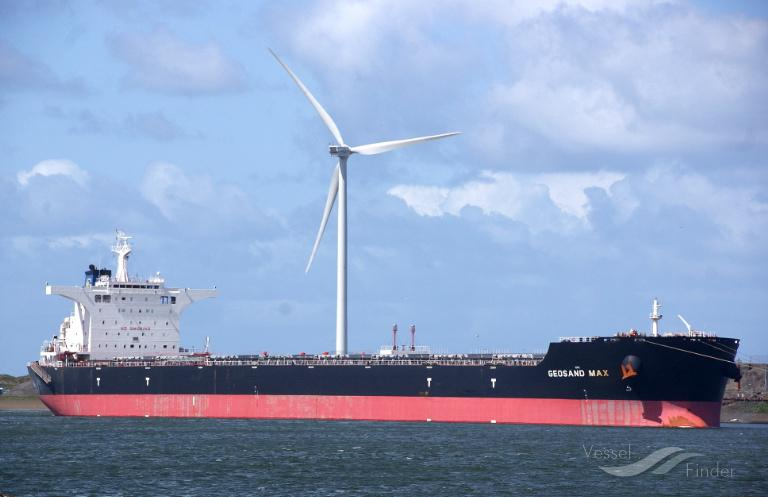OCR: (538, 360, 616, 384)
